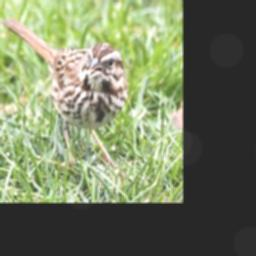Sparrow: (0, 16, 130, 158)
